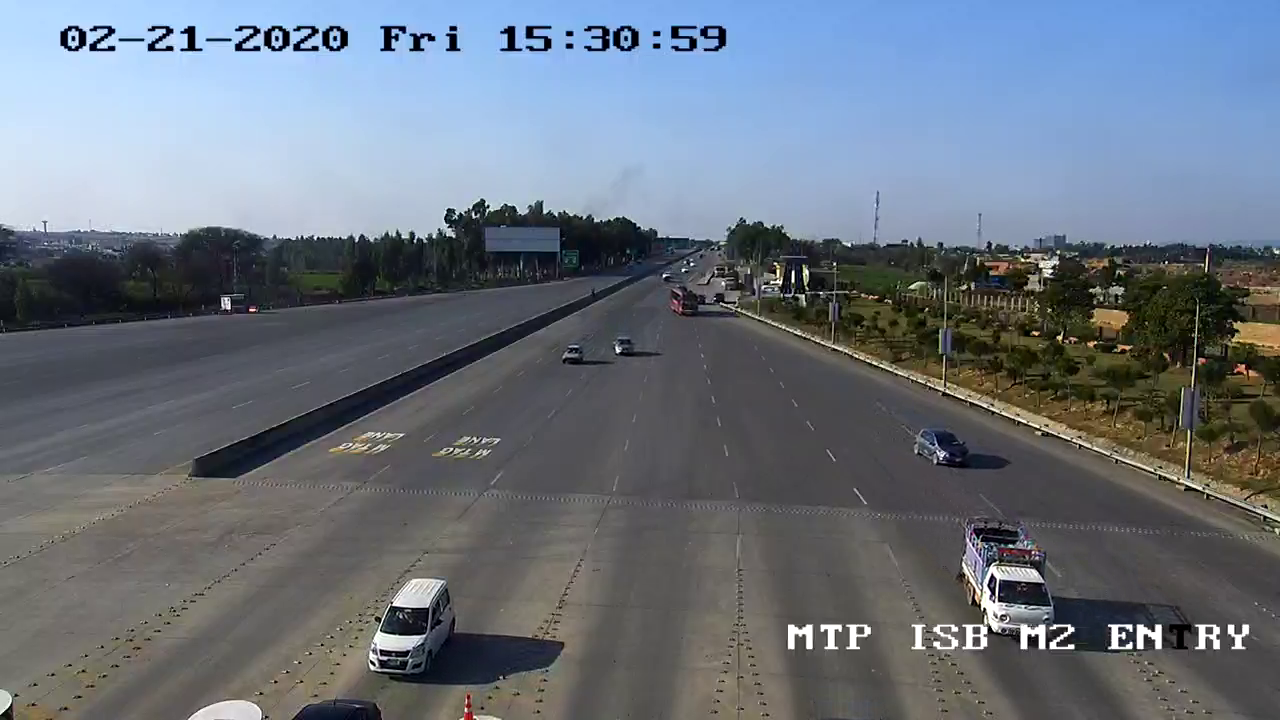f1: (357, 569, 465, 692)
f3: (949, 509, 1072, 644)
